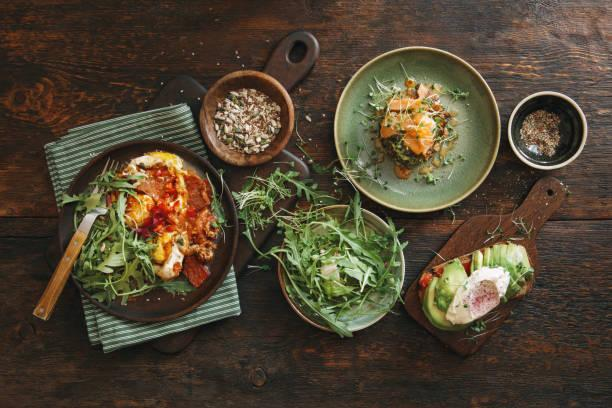Braised Crucian Carp: (61, 139, 234, 323), (397, 174, 566, 358), (333, 45, 497, 214), (278, 204, 403, 330), (200, 69, 294, 167)
